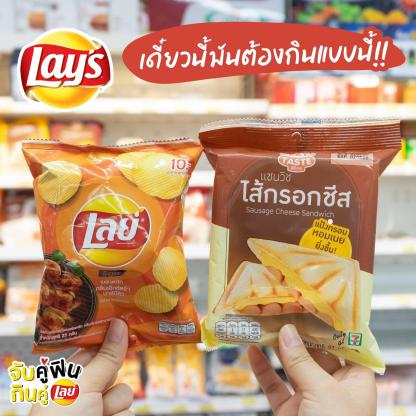potatochip: (16, 134, 209, 360)
